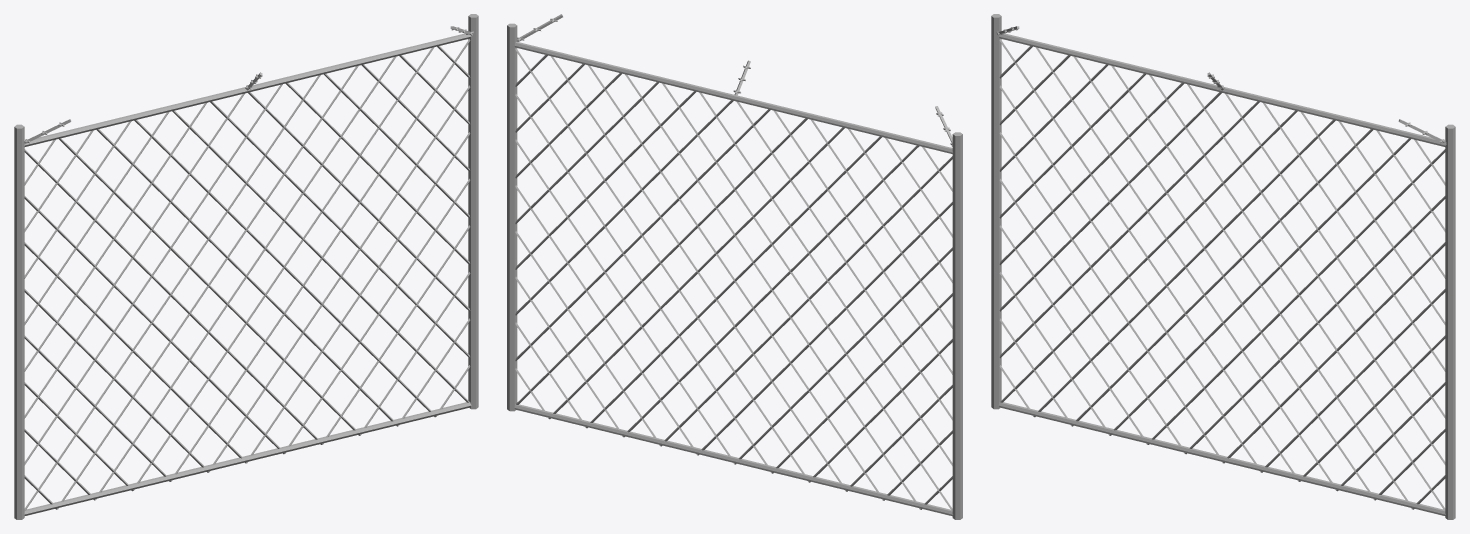
File: CycloneFence_2m.fbx
3 views of the same model, side by side, from view 1: azimuth 30°, elevation 25°; view 2: azimuth 150°, elevation 25°; view 3: azimuth 330°, elevation 25° (orthographic).
Parts seen in each view (by area): view 1: CycloneFence_2m; view 2: CycloneFence_2m; view 3: CycloneFence_2m.
Part boxes in pixels (left/top/right/bottom): CycloneFence_2m: left=14, top=14, right=478, bottom=519; CycloneFence_2m: left=507, top=14, right=962, bottom=519; CycloneFence_2m: left=991, top=14, right=1455, bottom=519.
Bounding box in the file's own units: 2.59 × 0.1759 × 2.15.
